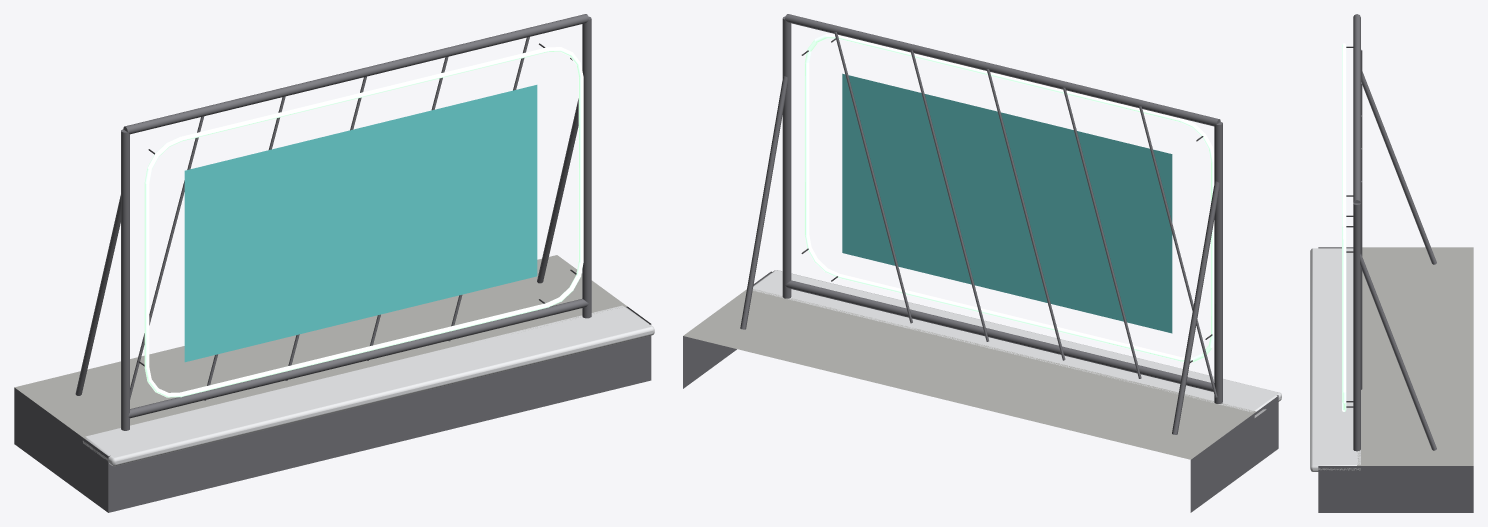
The model's file is retro_cap_neon_4.glb.
3 renders of one model, left to right at view 1: azimuth 30°, elevation 25°; view 2: azimuth 150°, elevation 25°; view 3: azimuth 270°, elevation 25°, orthographic. The views are drawn at different scales.
Parts seen in each view (by area): view 1: retro_cap_neon_4; view 2: retro_cap_neon_4; view 3: retro_cap_neon_4.
Part boxes in pixels (x1,y1,x2,y2): retro_cap_neon_4: [14, 14, 654, 512]; retro_cap_neon_4: [683, 14, 1281, 512]; retro_cap_neon_4: [1310, 14, 1473, 512].
Size of the model in its own units: 4 by 2.53 by 1.26.
